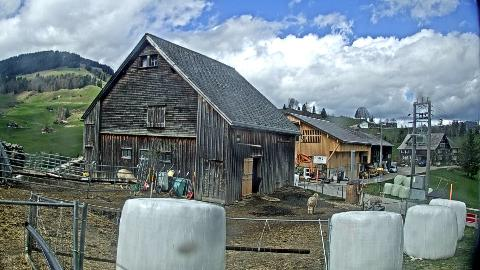car: (388, 165, 398, 173), (418, 161, 426, 167)
sheep: (118, 168, 140, 190), (306, 192, 320, 216), (252, 177, 264, 194), (370, 195, 382, 207)
